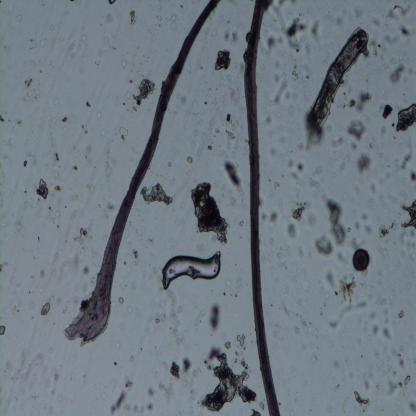Air bubble: (161, 249, 222, 292)
Background material: (198, 329, 258, 410), (190, 177, 230, 247), (156, 289, 185, 345), (7, 350, 43, 388), (324, 196, 347, 246), (329, 300, 367, 330), (372, 0, 414, 27), (367, 302, 394, 339), (17, 70, 43, 106), (332, 1, 364, 30), (109, 378, 134, 414), (284, 199, 308, 235), (140, 183, 176, 207), (283, 18, 308, 52), (352, 209, 372, 251), (130, 78, 154, 112), (371, 33, 391, 72), (332, 273, 358, 302), (307, 162, 326, 198), (394, 102, 416, 132), (395, 225, 416, 256), (222, 274, 248, 298), (166, 355, 194, 377), (372, 217, 397, 241), (221, 156, 240, 187), (401, 196, 416, 235), (72, 252, 88, 288), (283, 155, 306, 180), (312, 233, 335, 257), (346, 117, 368, 141), (222, 74, 238, 105), (309, 124, 327, 151), (347, 91, 371, 111), (272, 77, 289, 105), (103, 145, 118, 176), (214, 47, 232, 72), (222, 19, 240, 44), (156, 374, 172, 402), (207, 303, 223, 331), (387, 375, 413, 392), (34, 177, 51, 202), (46, 114, 76, 128), (270, 0, 296, 16), (93, 200, 116, 218), (265, 34, 285, 54), (356, 150, 372, 174), (50, 147, 62, 179), (8, 216, 29, 234), (360, 367, 376, 390), (338, 144, 352, 170), (352, 390, 371, 409), (367, 180, 379, 210), (0, 112, 24, 127), (294, 64, 310, 86), (36, 267, 61, 281), (273, 247, 288, 270), (394, 346, 409, 369), (36, 297, 54, 316), (123, 245, 140, 265), (336, 245, 349, 269), (48, 206, 62, 228), (395, 23, 413, 40), (392, 63, 407, 83), (82, 143, 95, 166), (22, 151, 39, 168), (116, 121, 129, 143), (224, 111, 238, 130), (74, 37, 89, 54), (379, 102, 394, 119), (309, 20, 320, 42), (142, 382, 157, 398), (116, 56, 132, 71), (400, 152, 413, 170), (155, 1, 164, 25), (25, 36, 39, 51), (134, 404, 153, 415), (326, 268, 337, 286), (270, 59, 283, 74), (176, 90, 188, 106), (76, 229, 88, 245), (295, 141, 309, 154), (128, 7, 137, 27), (169, 11, 178, 31), (52, 389, 64, 404), (124, 85, 133, 105), (50, 370, 63, 383), (0, 42, 12, 56), (269, 210, 280, 224), (299, 274, 310, 288), (143, 233, 154, 246), (394, 304, 404, 318), (265, 116, 275, 130), (266, 147, 278, 158), (52, 182, 62, 195), (339, 92, 347, 108), (16, 10, 24, 26), (269, 178, 279, 190), (408, 169, 416, 184), (84, 180, 93, 193), (70, 163, 80, 174), (257, 401, 268, 411), (299, 319, 309, 330), (211, 126, 222, 136), (314, 276, 324, 286), (226, 130, 236, 140), (84, 96, 92, 108), (184, 153, 194, 162), (204, 143, 214, 152), (95, 110, 104, 120), (0, 260, 9, 270), (80, 124, 89, 134), (332, 137, 343, 145), (410, 399, 416, 413), (114, 296, 124, 304), (128, 353, 135, 363), (106, 0, 115, 7), (0, 325, 7, 334), (347, 371, 356, 378), (57, 36, 64, 44), (166, 159, 173, 167), (42, 39, 48, 48), (334, 362, 341, 369), (294, 326, 300, 334), (35, 235, 40, 243), (240, 218, 244, 226), (319, 309, 323, 316), (50, 25, 53, 31)
Cellulose filter fibre: (306, 24, 371, 132)
Cotton: (66, 0, 222, 343), (242, 1, 282, 415)
Diatom: (352, 247, 373, 274)
